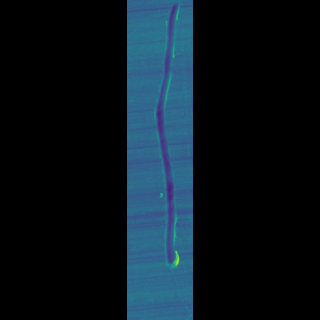Loch: (158, 0, 164, 270)
